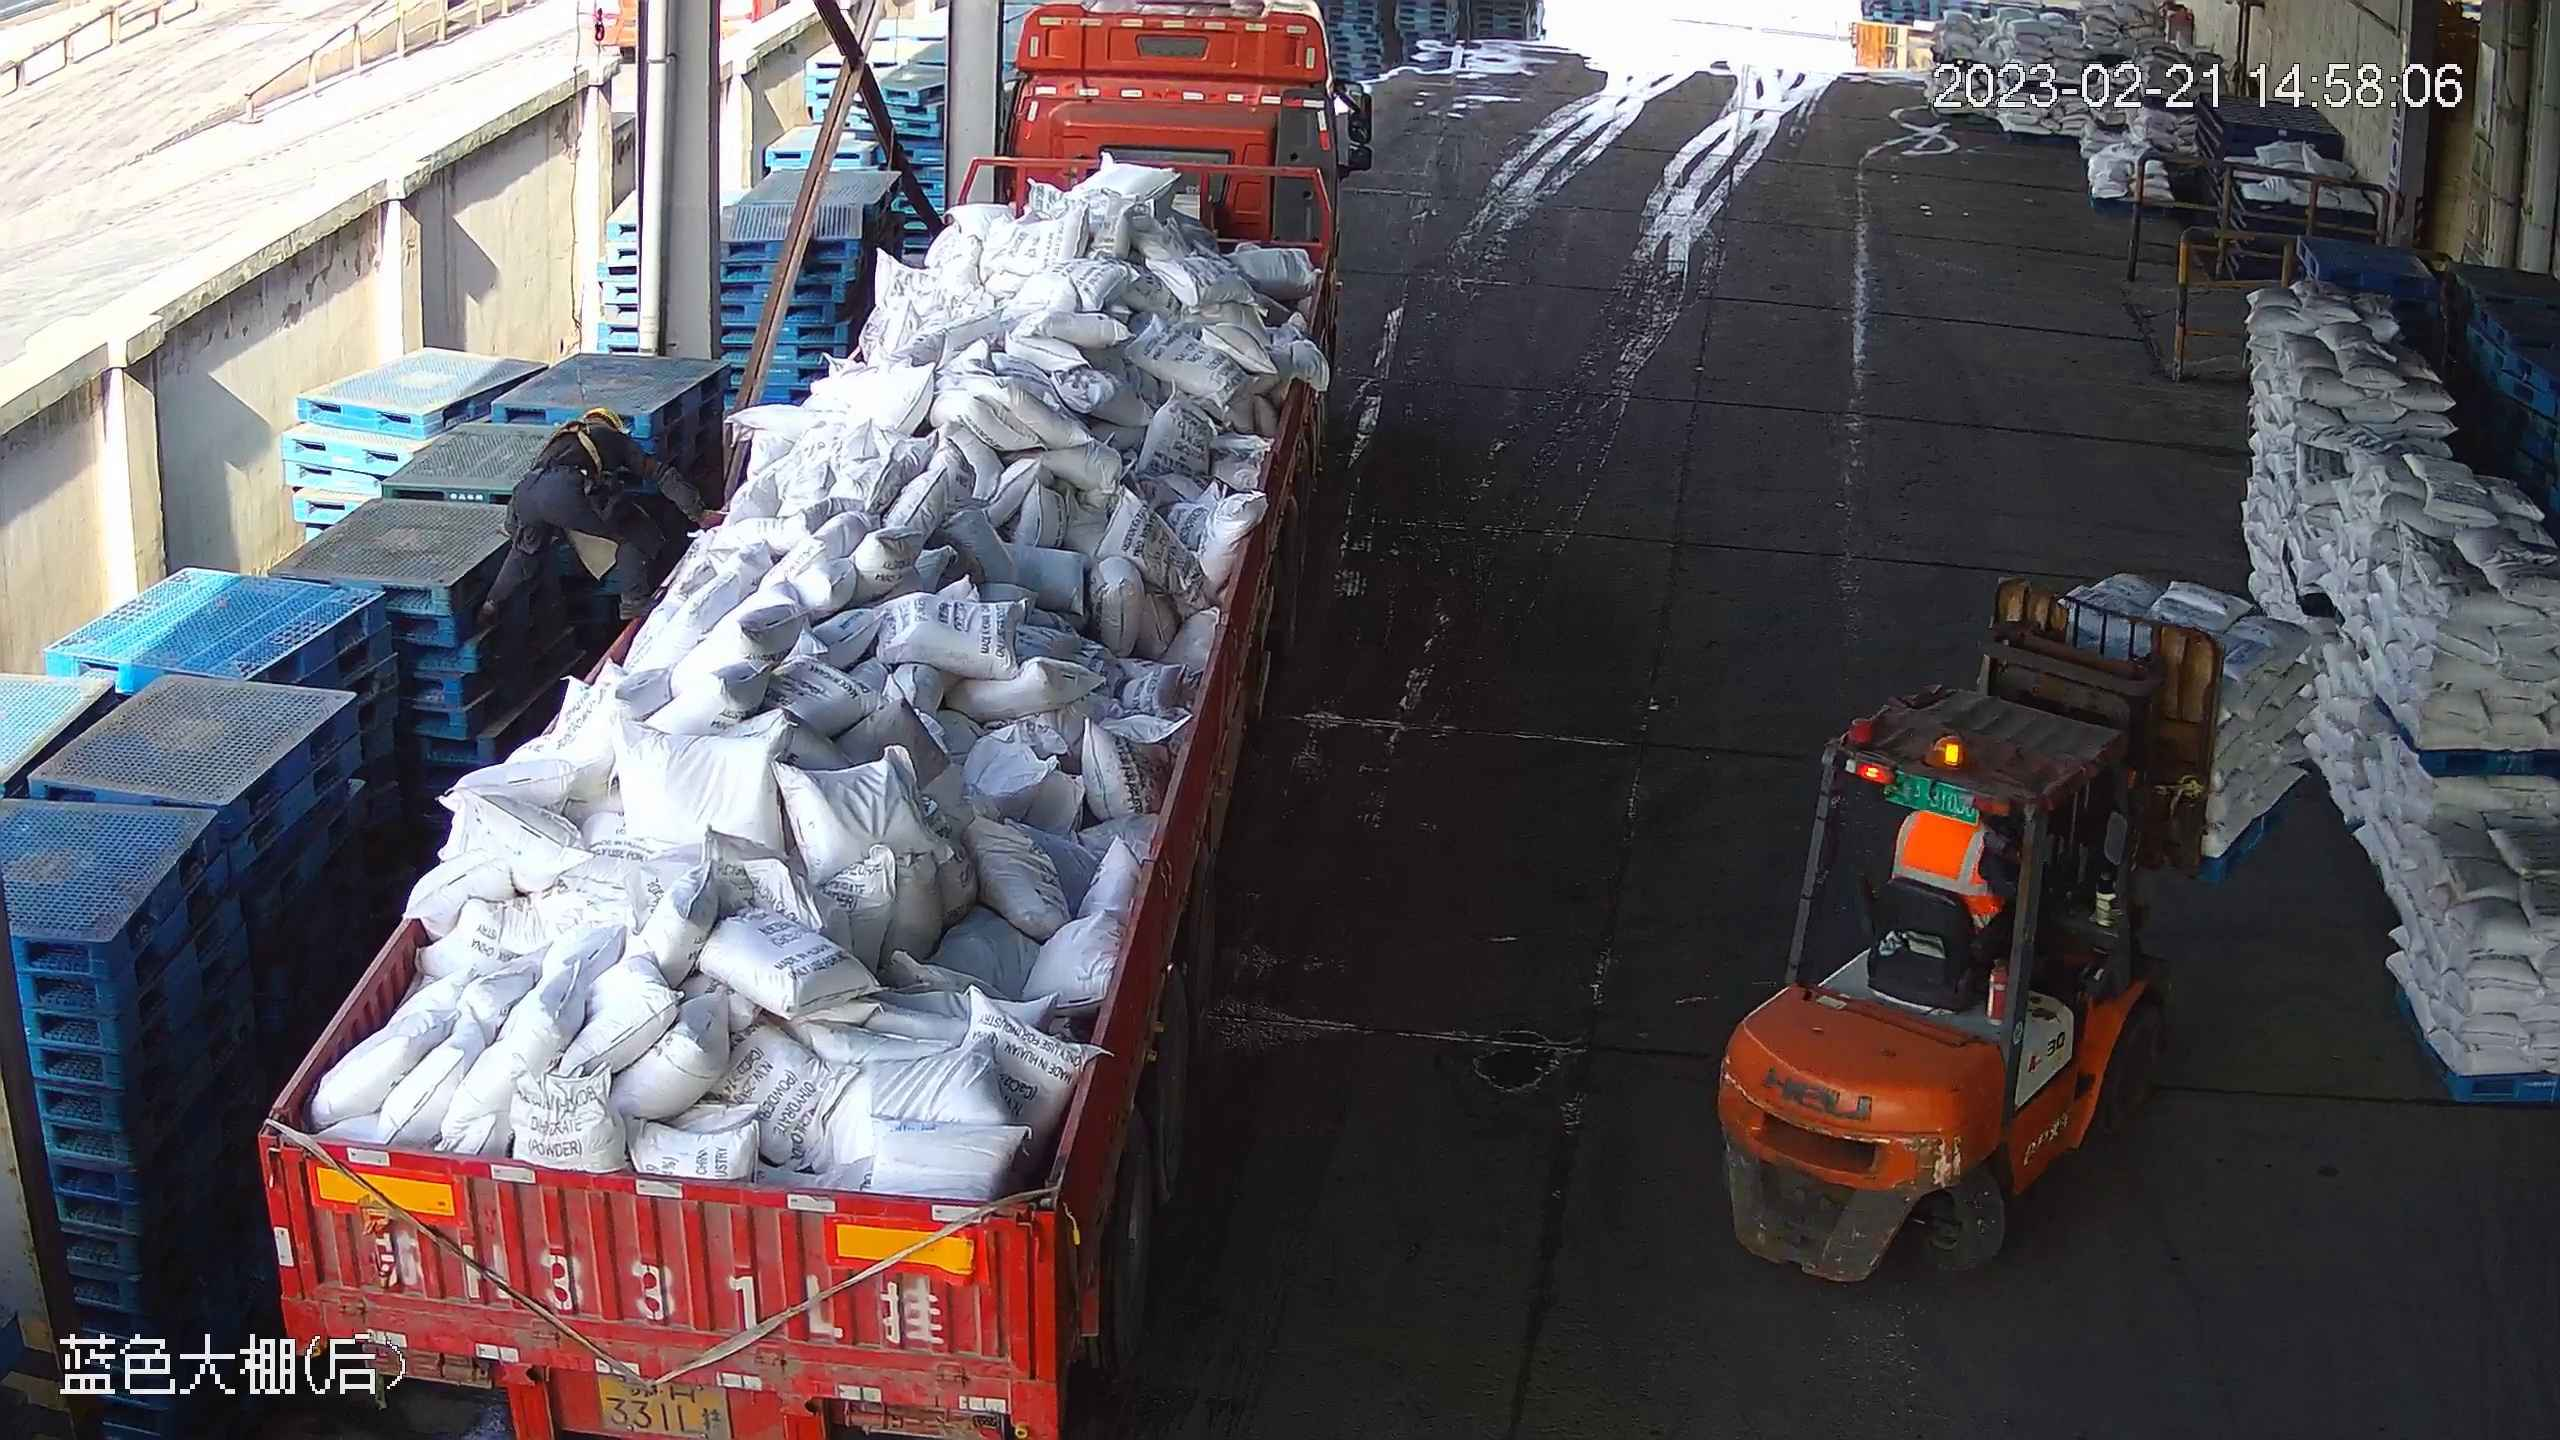belt: (556, 411, 610, 474)
people: (479, 405, 724, 619)
truck: (251, 1, 1379, 1433)
